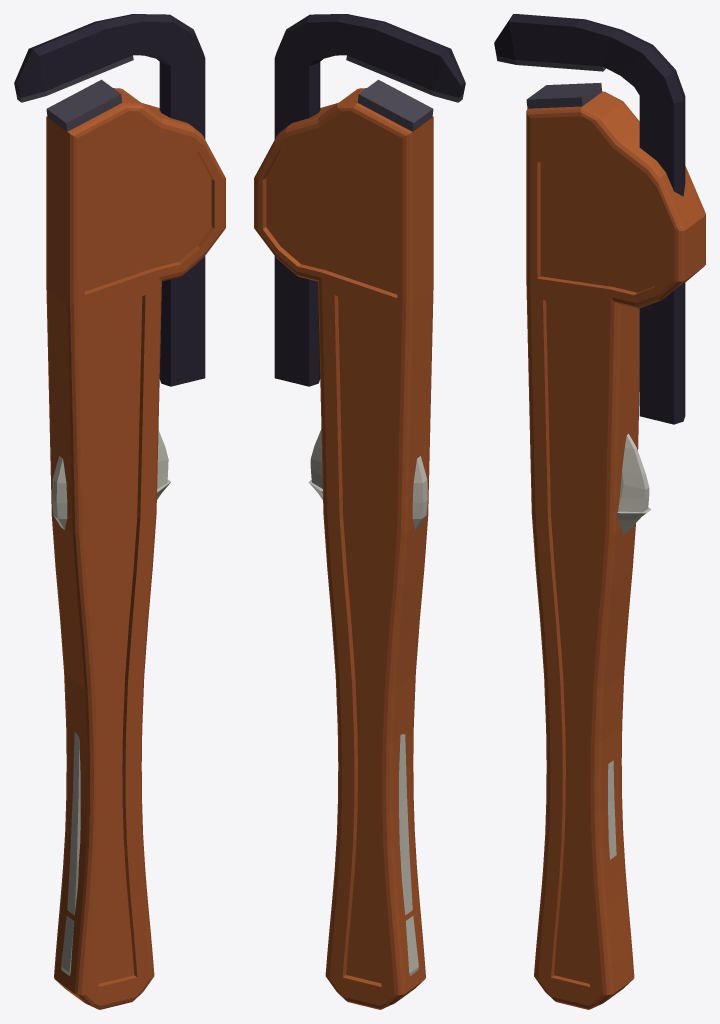
File: wrenches.glb
The picture shows the model from 3 angles, left to right: view 1: azimuth 30°, elevation 25°; view 2: azimuth 150°, elevation 25°; view 3: azimuth 330°, elevation 25°; orthographic projection.
Visible parts, largest first — view 1: Wrench.001; view 2: Wrench.001; view 3: Wrench.001.
Part boxes in pixels (left/top/right/bottom): Wrench.001: left=14, top=14, right=225, bottom=1009; Wrench.001: left=254, top=14, right=465, bottom=1009; Wrench.001: left=494, top=14, right=705, bottom=1009.
Size of the model in its own units: 0.0745 by 0.35 by 0.0178.
